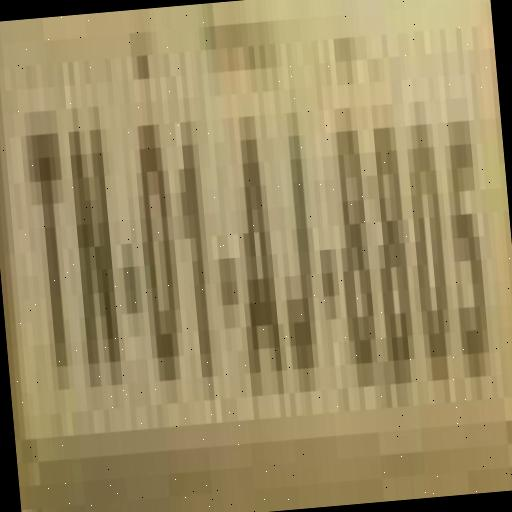number plate: (0, 4, 505, 510)
